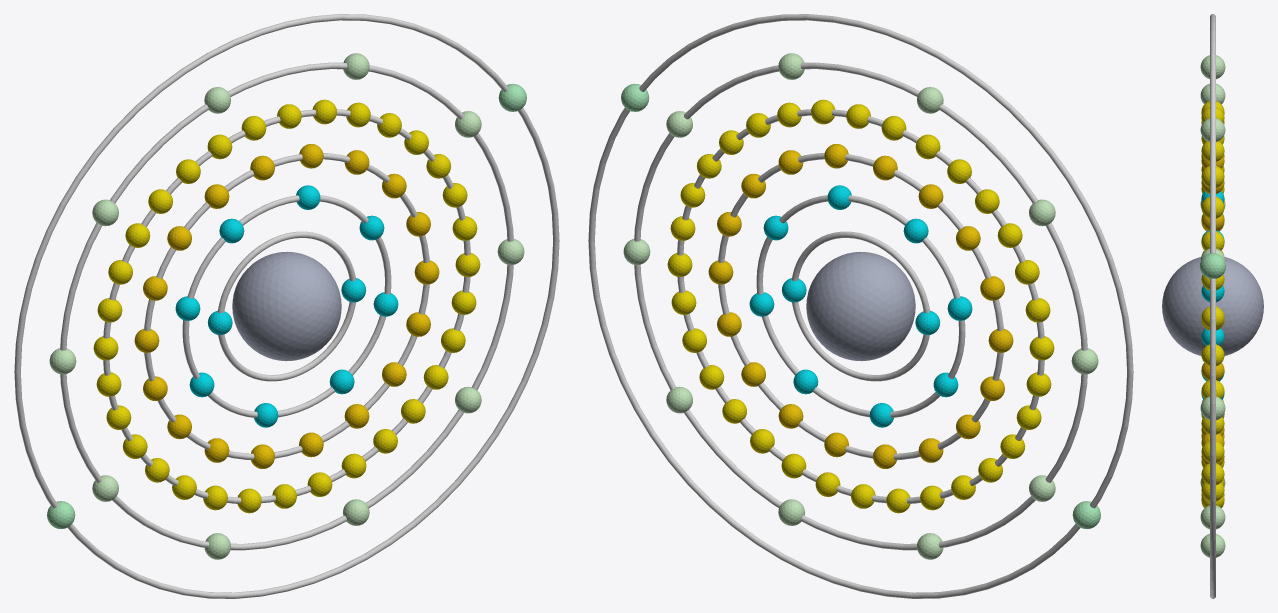
3 renders of one model, left to right at view 1: azimuth 30°, elevation 25°; view 2: azimuth 150°, elevation 25°; view 3: azimuth 270°, elevation 25°, orthographic. The views are drawn at different scales.
Parts seen in each view (by area): view 1: world; view 2: world; view 3: world.
Boxes of the visible parts, bbox=[...] form: world: bbox=[14, 14, 559, 598]; world: bbox=[588, 14, 1133, 598]; world: bbox=[1162, 14, 1263, 598].
Size of the model in its own units: 2.53 by 2.53 by 0.44.
